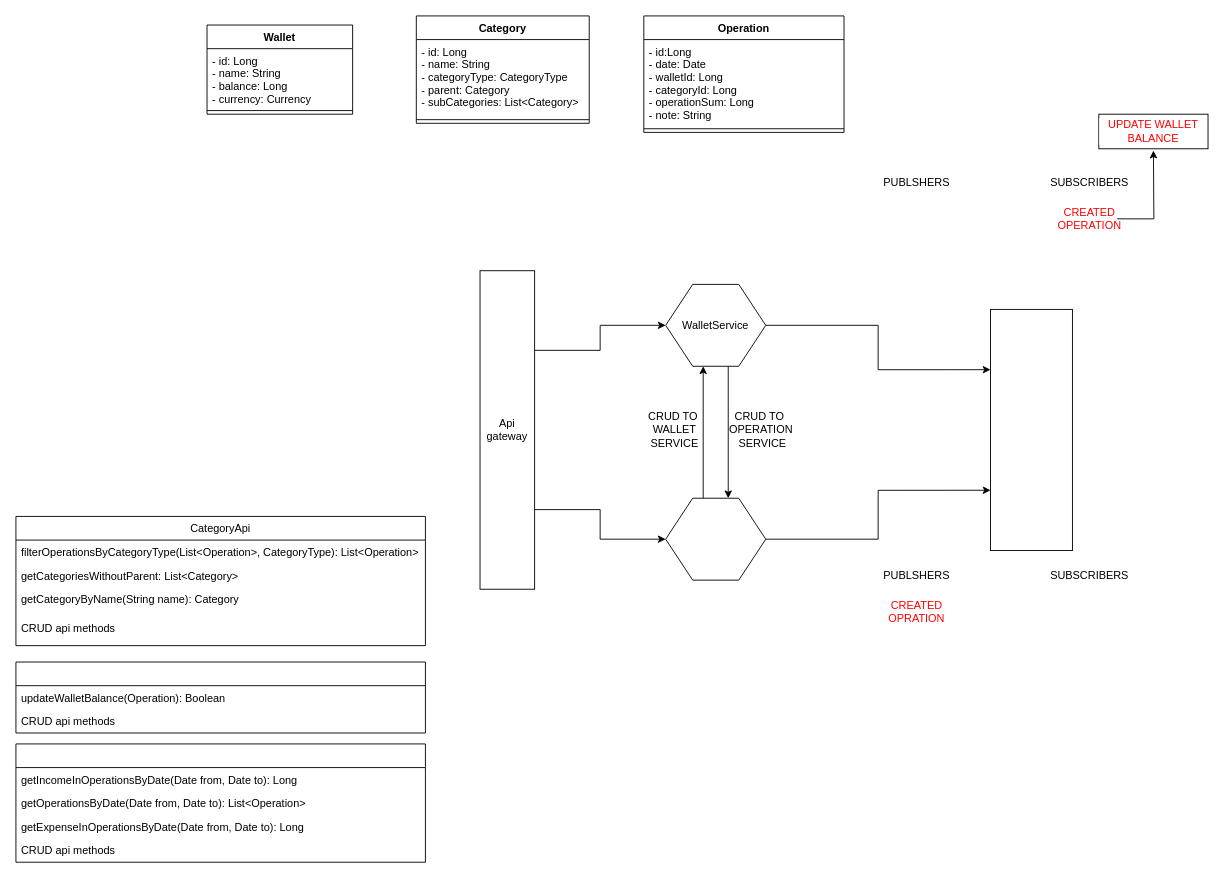
This 1224x881 diagram has some shape labels left out. The box of each missing label's shape, as (x1, y1, x2, y2) in pixels:
OperationAPI: (15, 743, 425, 862)
OperationService: (665, 497, 766, 580)
RabbitMQ: (990, 308, 1072, 551)
WalletAPI: (15, 661, 425, 733)
